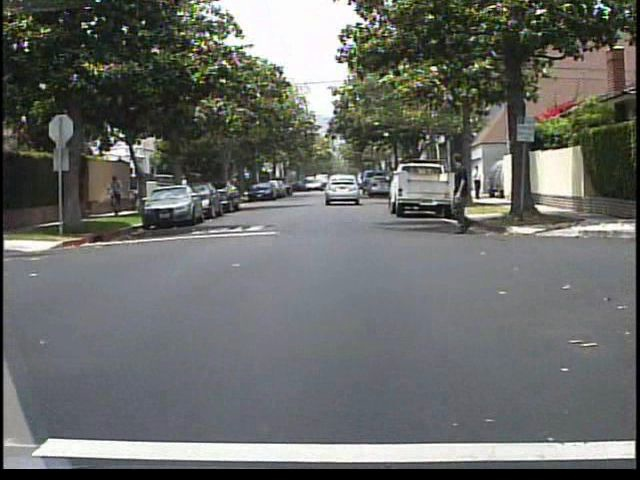person: (439, 153, 486, 236), (105, 170, 128, 214), (124, 169, 148, 205), (175, 171, 192, 210), (472, 162, 486, 202)
